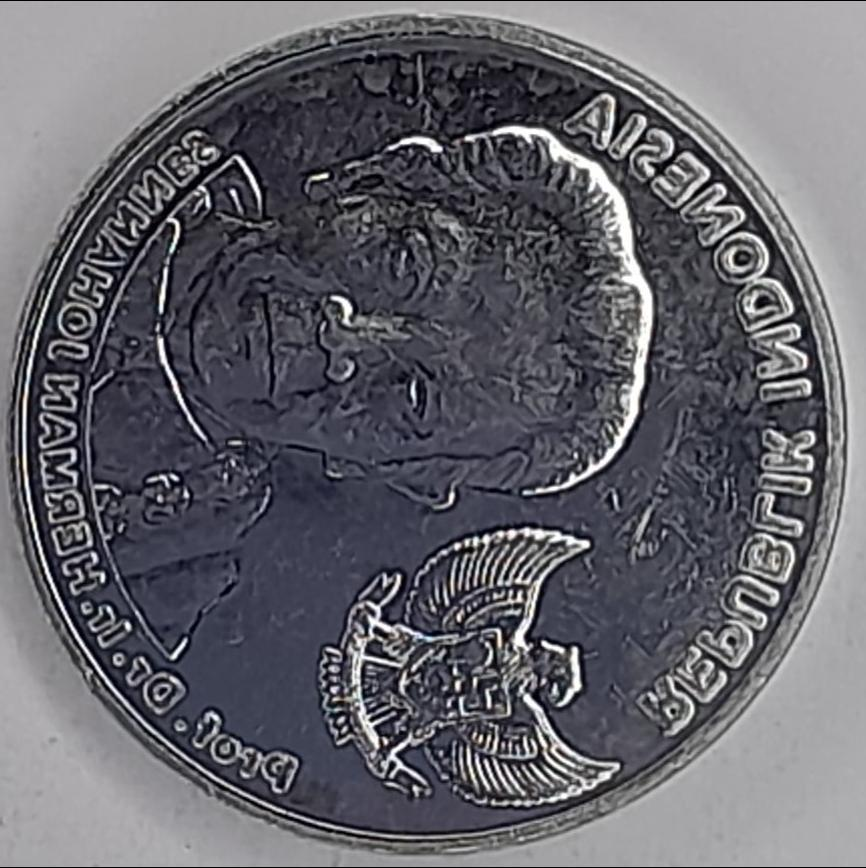coin_100_e2016: (1, 3, 852, 856)
